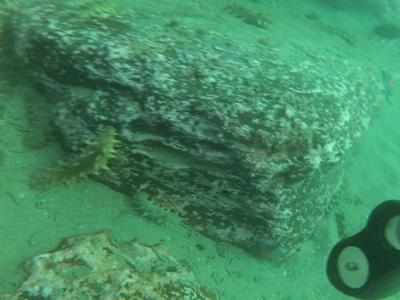holothurian: (24, 124, 123, 193), (130, 192, 187, 232), (227, 4, 271, 30)
urchin: (374, 21, 397, 41)
